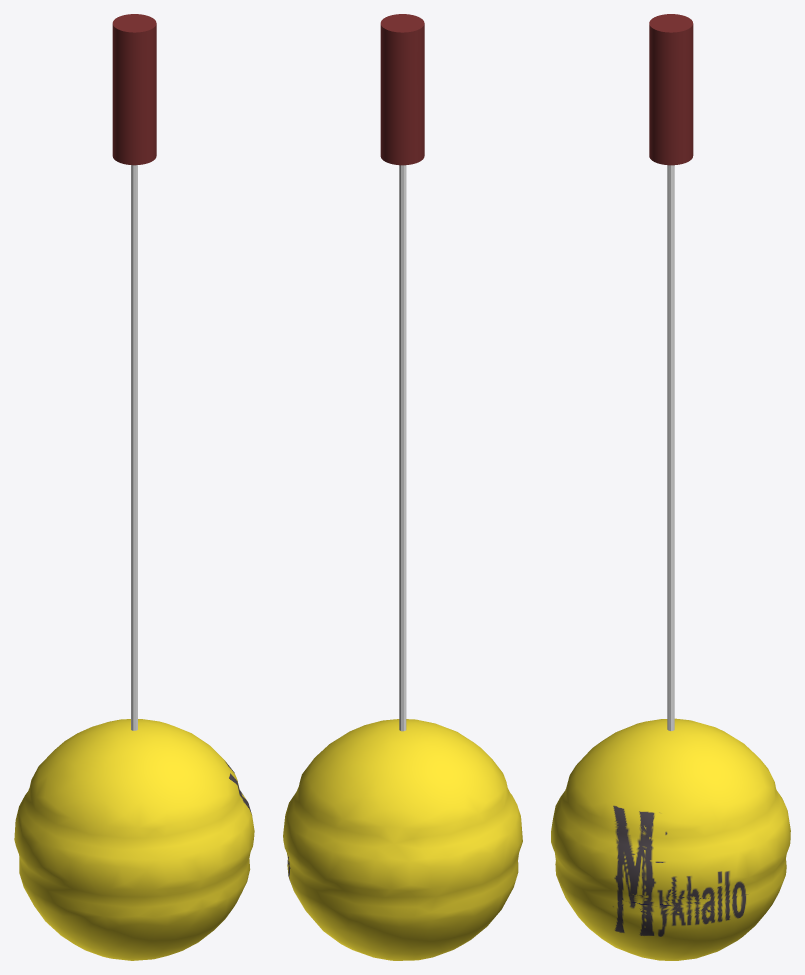
File: lamp.glb
3 views of the same model, side by side, from view 1: azimuth 30°, elevation 25°; view 2: azimuth 150°, elevation 25°; view 3: azimuth 270°, elevation 25° (orthographic).
Parts seen in each view (by area): view 1: 305_Kugel_4, 312_Zylinder.4, 304_Zylinder; view 2: 305_Kugel_4, 312_Zylinder.4, 304_Zylinder; view 3: 305_Kugel_4, 312_Zylinder.4, 304_Zylinder.
Boxes of the visible parts, x1,y1,x2,y2 form: 305_Kugel_4: (14,719,254,960); 312_Zylinder.4: (112,14,156,165); 304_Zylinder: (131,165,137,730); 305_Kugel_4: (283,719,522,960); 312_Zylinder.4: (380,14,424,165); 304_Zylinder: (399,165,406,731); 305_Kugel_4: (551,718,790,960); 312_Zylinder.4: (649,14,693,165); 304_Zylinder: (667,165,674,730).
Size of the model in its own units: 32.79 by 140 by 32.74.
3 materials, 1 textured.
